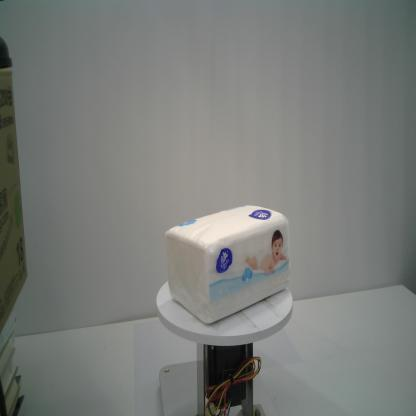Tissue: (164, 204, 292, 324)
